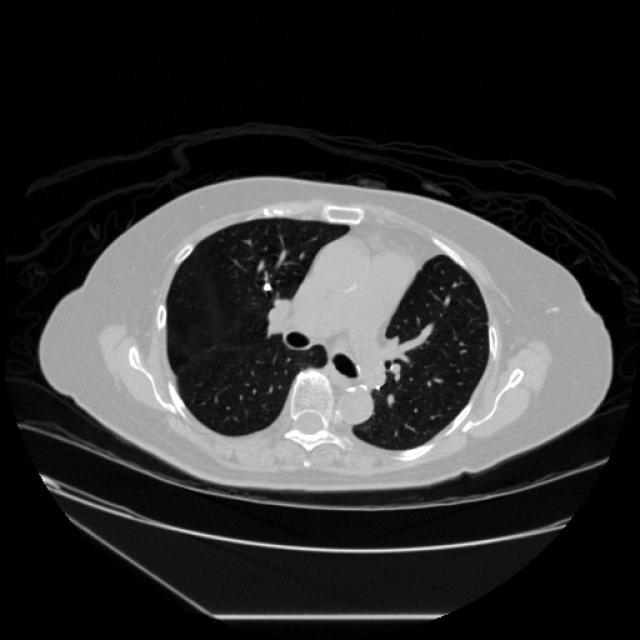nodule: (254, 275, 276, 297)
